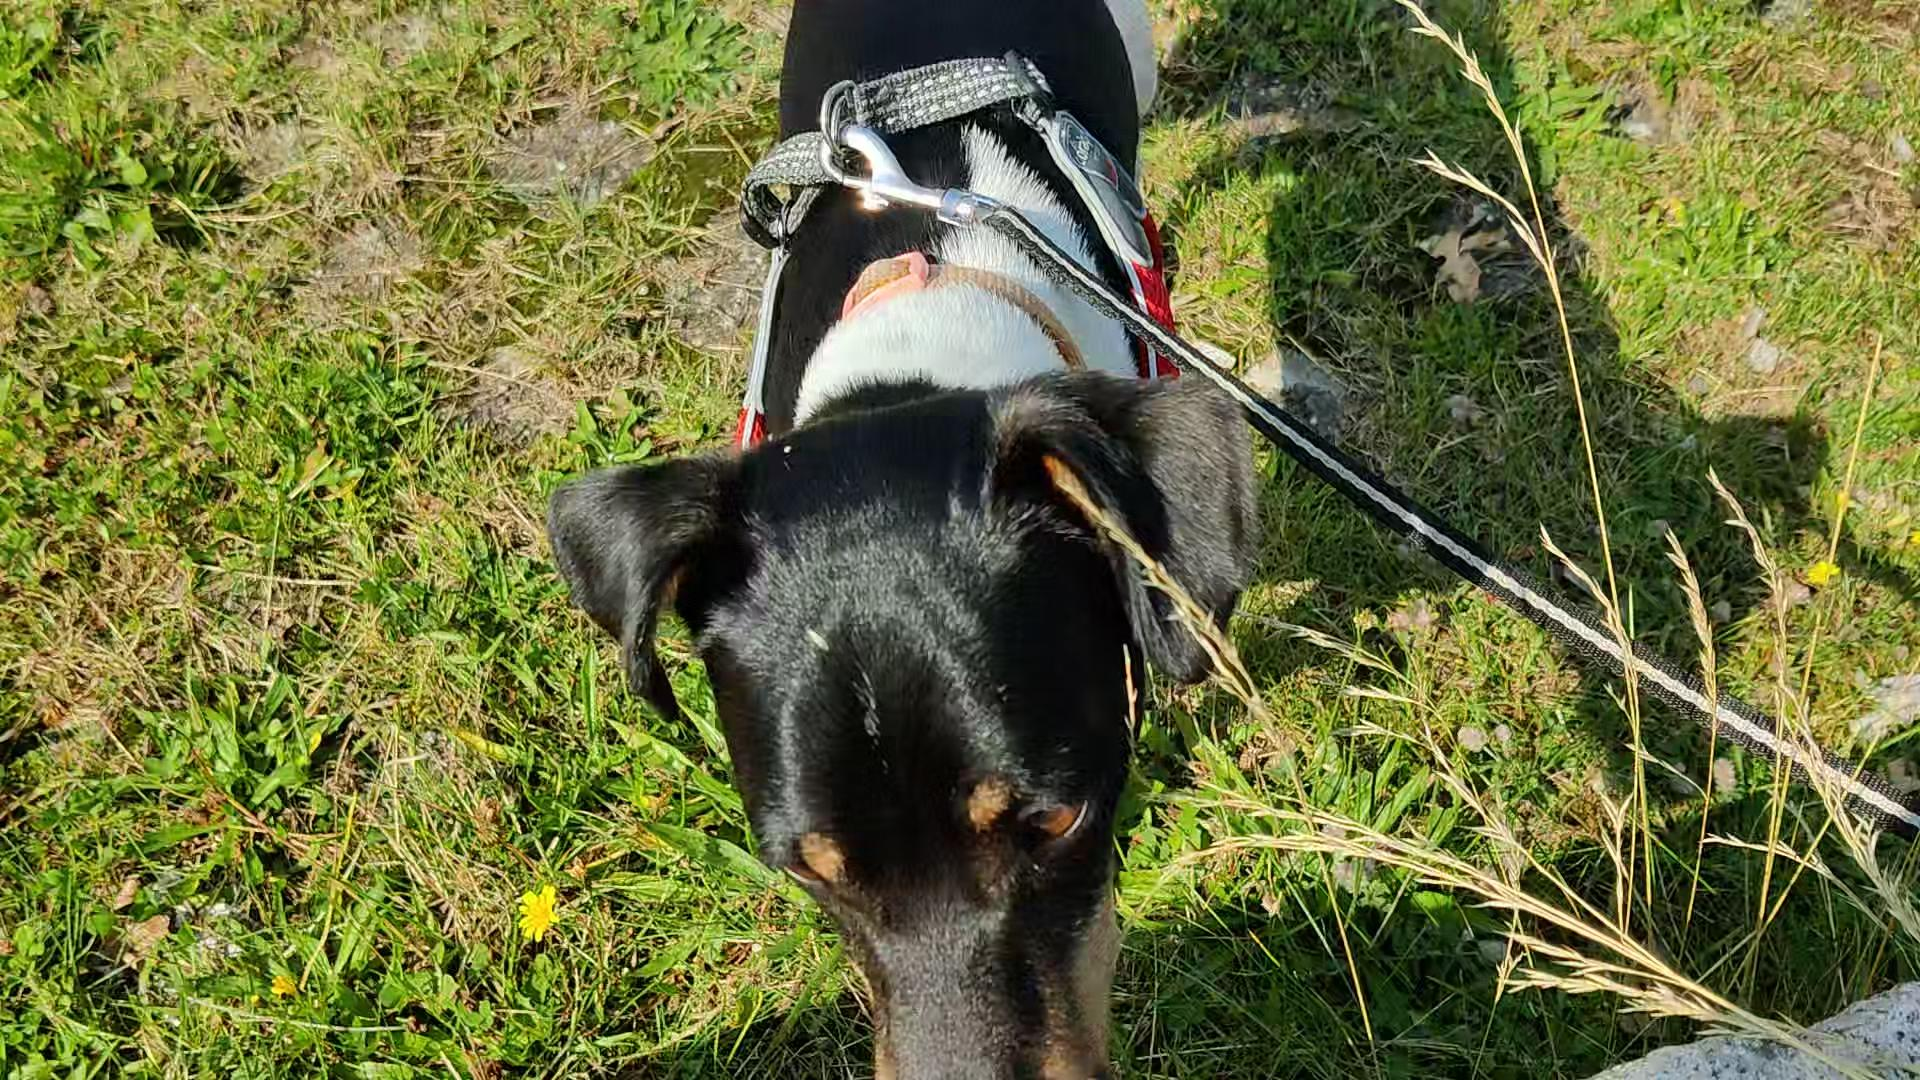Dog: (517, 0, 1307, 1079)
